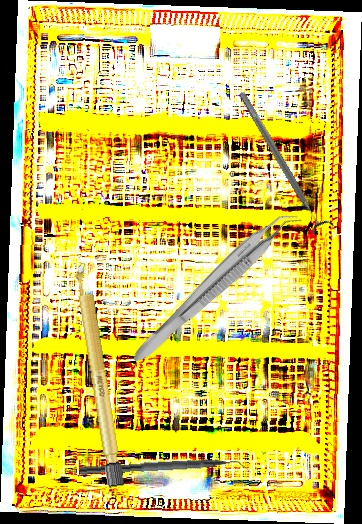Chopper: (79, 455, 252, 486)
Fixation Ring: (230, 86, 336, 238)
Scalpel Handle: (72, 259, 126, 489)
Tissue Forceps: (129, 200, 303, 374)
